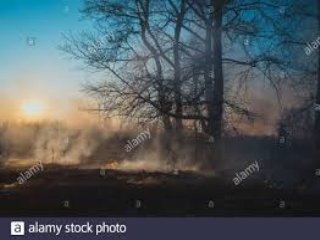smoke: (4, 110, 172, 183)
